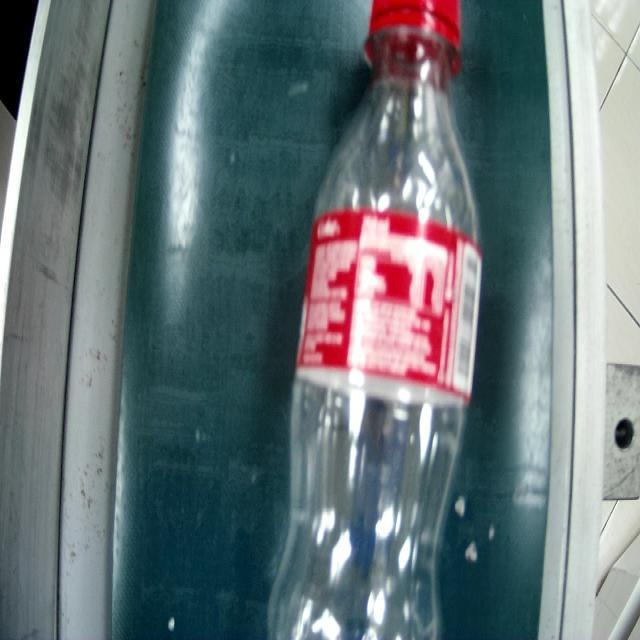Pet_Bottle: (274, 0, 484, 638)
